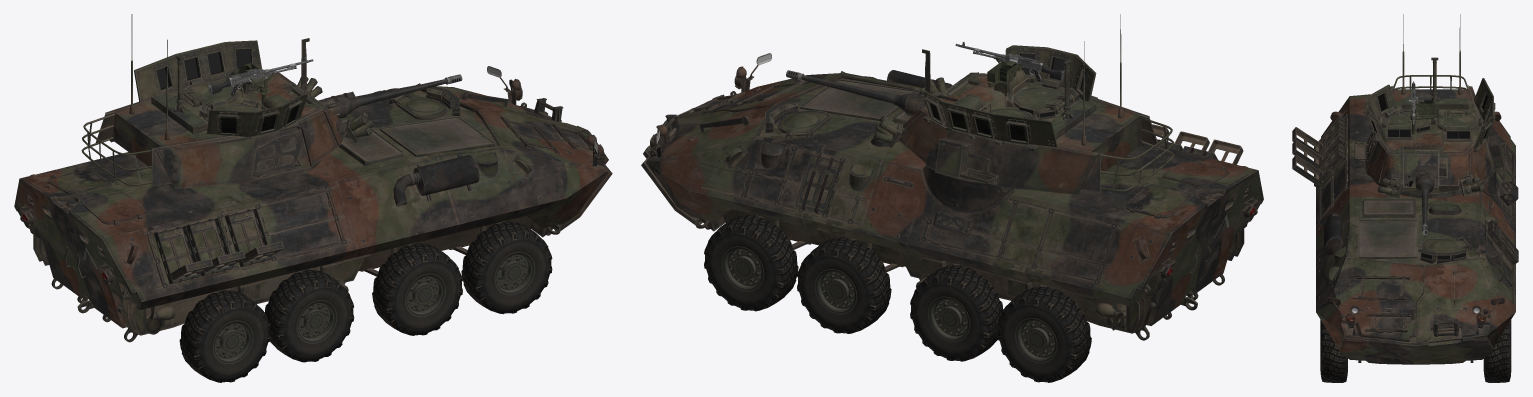
The model's file is lav25.glb.
The picture shows the model from 3 angles, left to right: view 1: azimuth 30°, elevation 25°; view 2: azimuth 150°, elevation 25°; view 3: azimuth 270°, elevation 25°; orthographic projection. The views are drawn at different scales.
Parts seen in each view (by area): view 1: hull_0, wheels_0, turret_5, hull_1, turret_3, gun_0, turret_4; view 2: hull_0, hull_1, wheels_0, turret_5, gun_0, turret_3, turret_4, turret_0; view 3: hull_0, turret_5, hull_1, wheels_0, gun_0, turret_0.
Boxes of the visible parts, box(x1,y1,x2,y2) form: hull_0: box(14, 66, 612, 342); wheels_0: box(179, 221, 552, 382); turret_5: box(81, 14, 373, 188); hull_1: box(46, 78, 611, 217); turret_3: box(156, 48, 299, 133); gun_0: box(291, 74, 462, 118); turret_4: box(229, 57, 306, 95); hull_0: box(644, 53, 1263, 340); hull_1: box(641, 66, 1229, 298); wheels_0: box(704, 214, 1091, 382); turret_5: box(874, 14, 1174, 194); gun_0: box(786, 70, 968, 116); turret_3: box(930, 53, 1088, 140); turret_4: box(962, 42, 1042, 81); turret_0: box(987, 57, 1022, 96); hull_0: box(1292, 94, 1518, 360); turret_5: box(1354, 14, 1506, 198); hull_1: box(1324, 121, 1518, 364); wheels_0: box(1320, 319, 1511, 382); gun_0: box(1403, 151, 1438, 234); turret_0: box(1408, 99, 1440, 134).
Size of the model in its own units: 6.45 by 3.6 by 2.97.
Materials: 8 (7 with a texture image).
